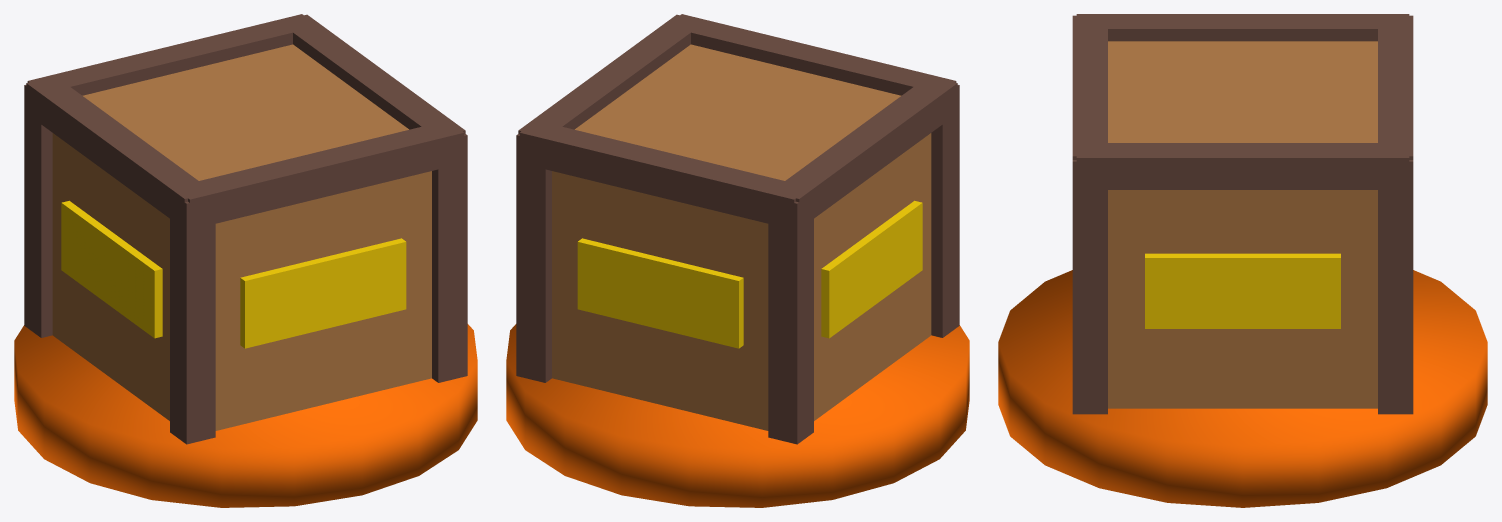
The model's file is Crate.glb.
3 views of the same model, side by side, from view 1: azimuth 30°, elevation 25°; view 2: azimuth 150°, elevation 25°; view 3: azimuth 270°, elevation 25° (orthographic). The views are drawn at different scales.
Parts seen in each view (by area): view 1: Crate; view 2: Crate; view 3: Crate.
Boxes of the visible parts, x1=… form: Crate: x1=14, y1=14, x2=477, y2=507; Crate: x1=506, y1=14, x2=969, y2=507; Crate: x1=998, y1=14, x2=1487, y2=507.
Bounding box in the file's own units: 2.5 × 1.8 × 2.5.
